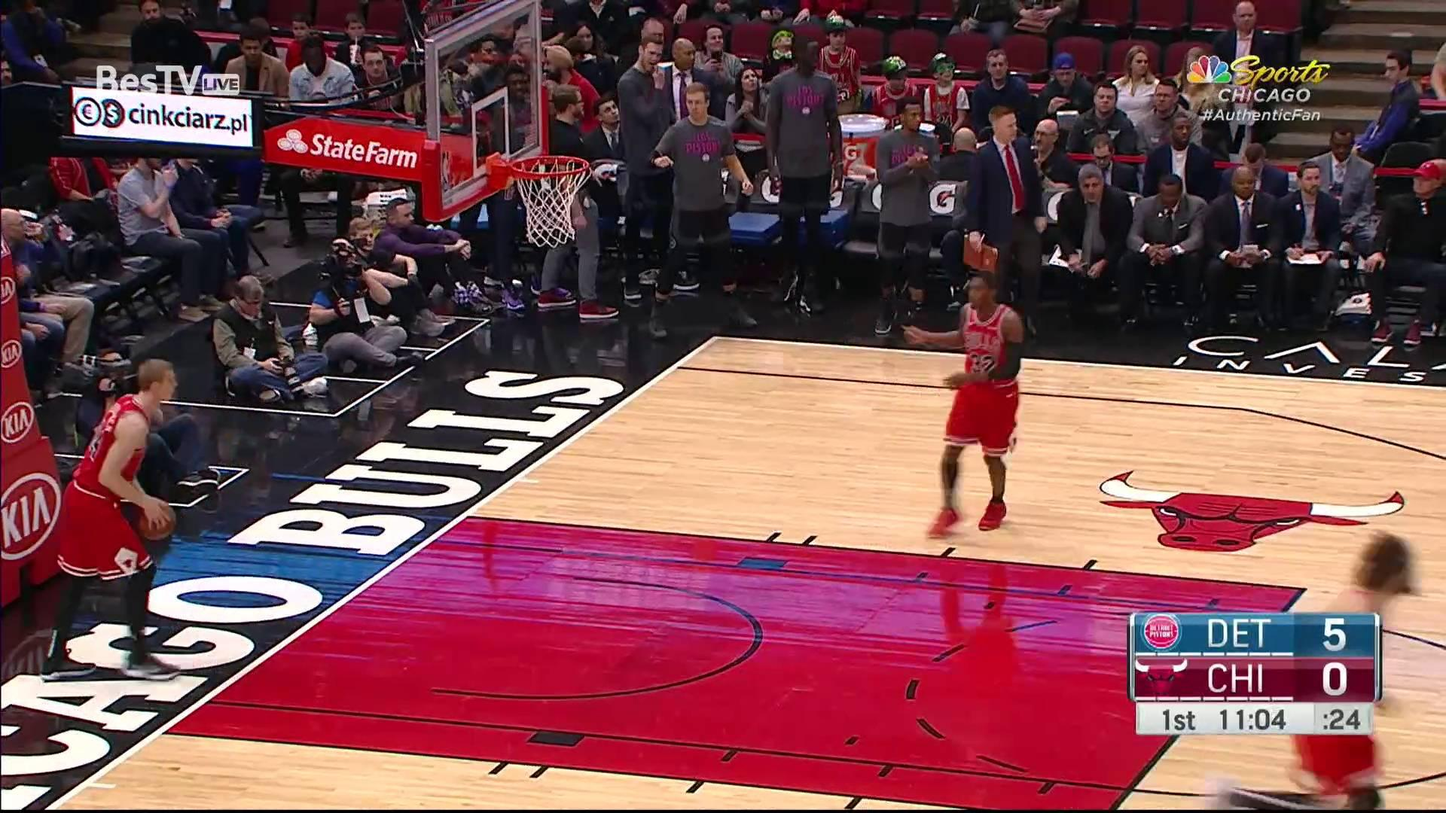basketball: (134, 504, 178, 543)
